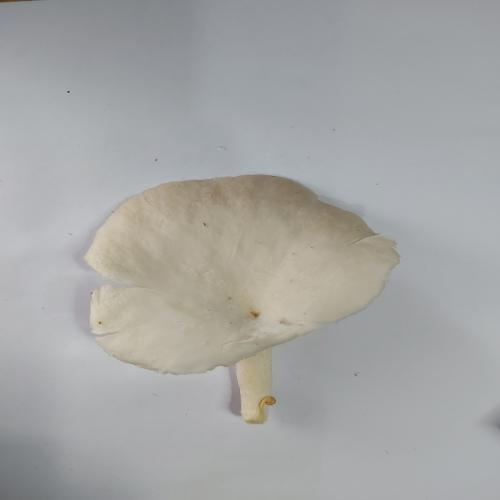Oyster Mushroom: (82, 172, 401, 425)
